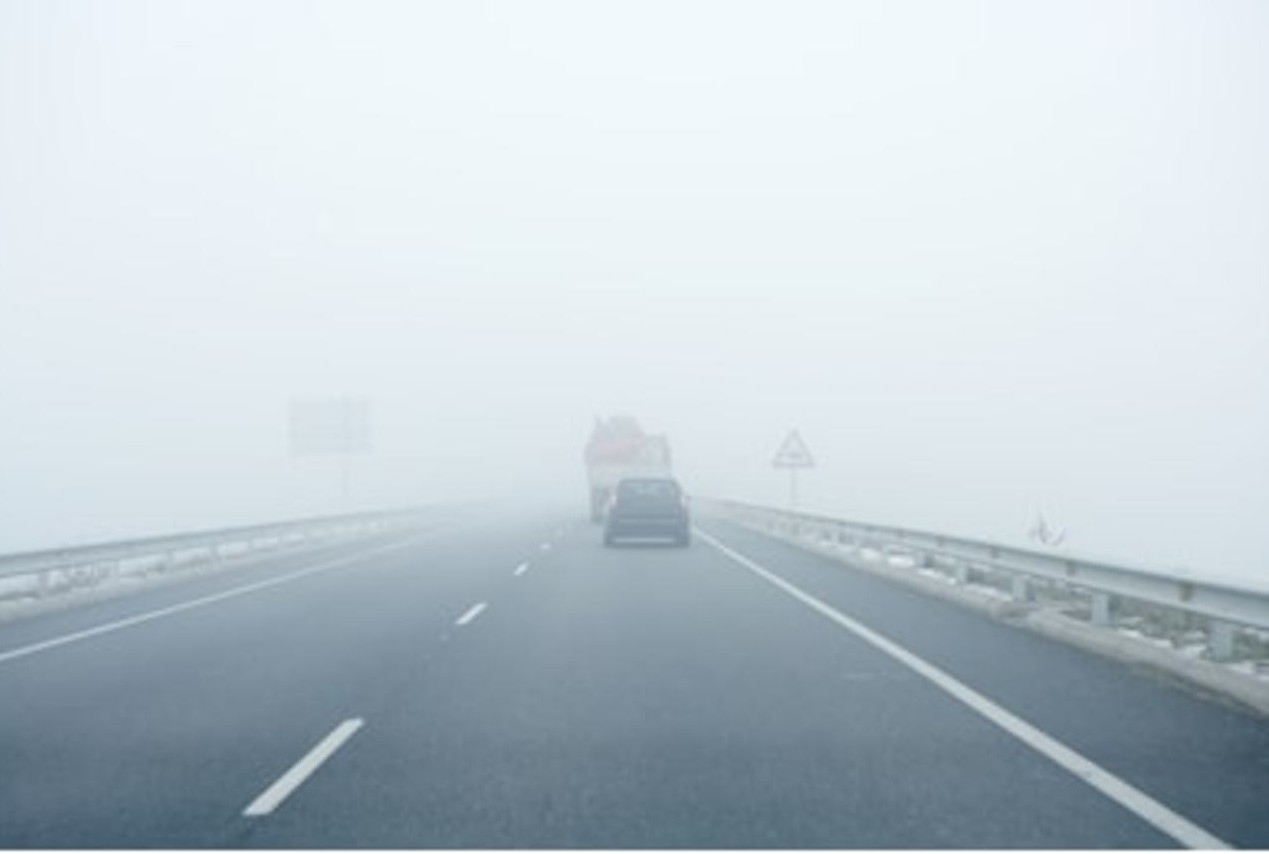car: (602, 474, 688, 548)
truck: (584, 413, 674, 524)
